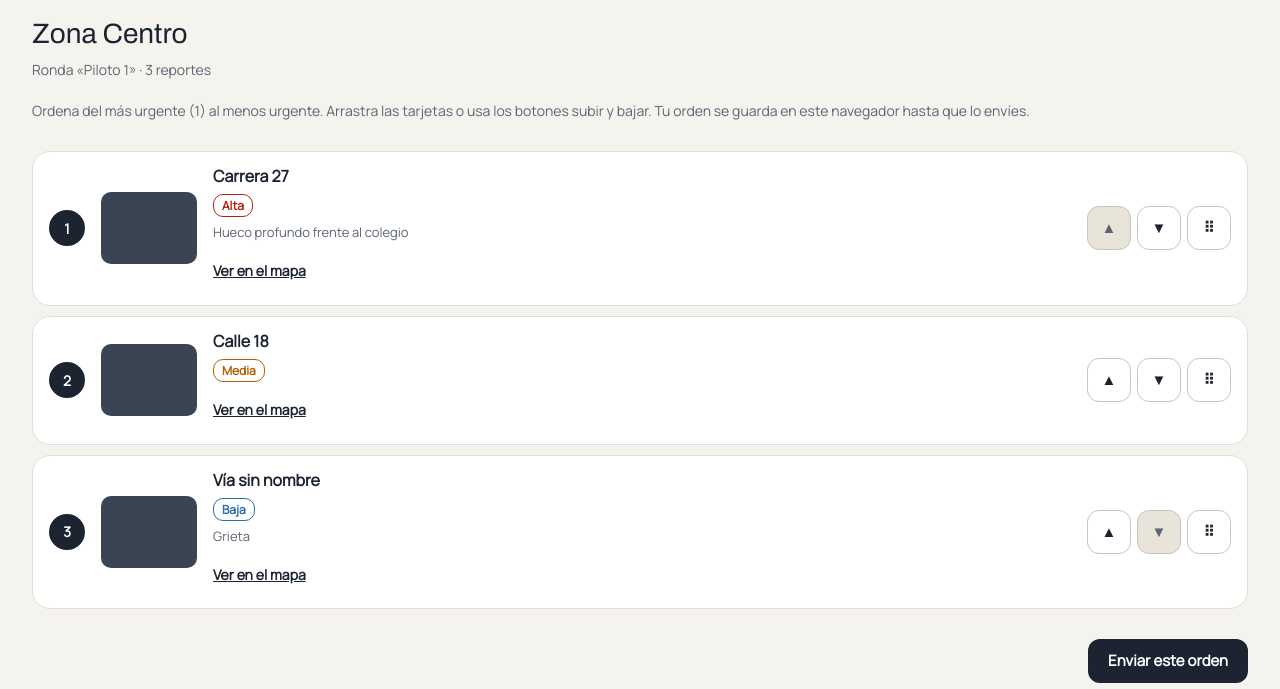
vista a ciegas de una zona › si ya se envió, lo dice
(page scrolled)
Click the button "Enviar este orden" at (1168, 661), box [1088,639,1248,683]
(page scrolled)
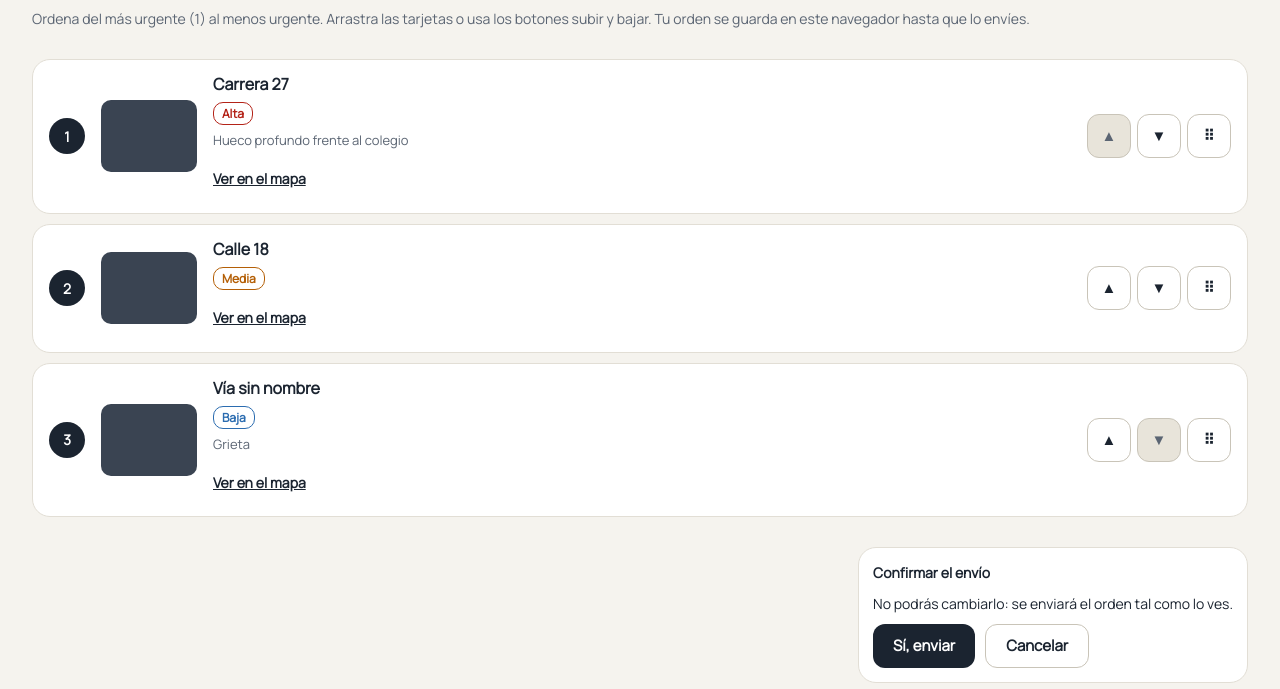
Click the button "Sí, enviar" at (924, 646), box [873,624,975,668]
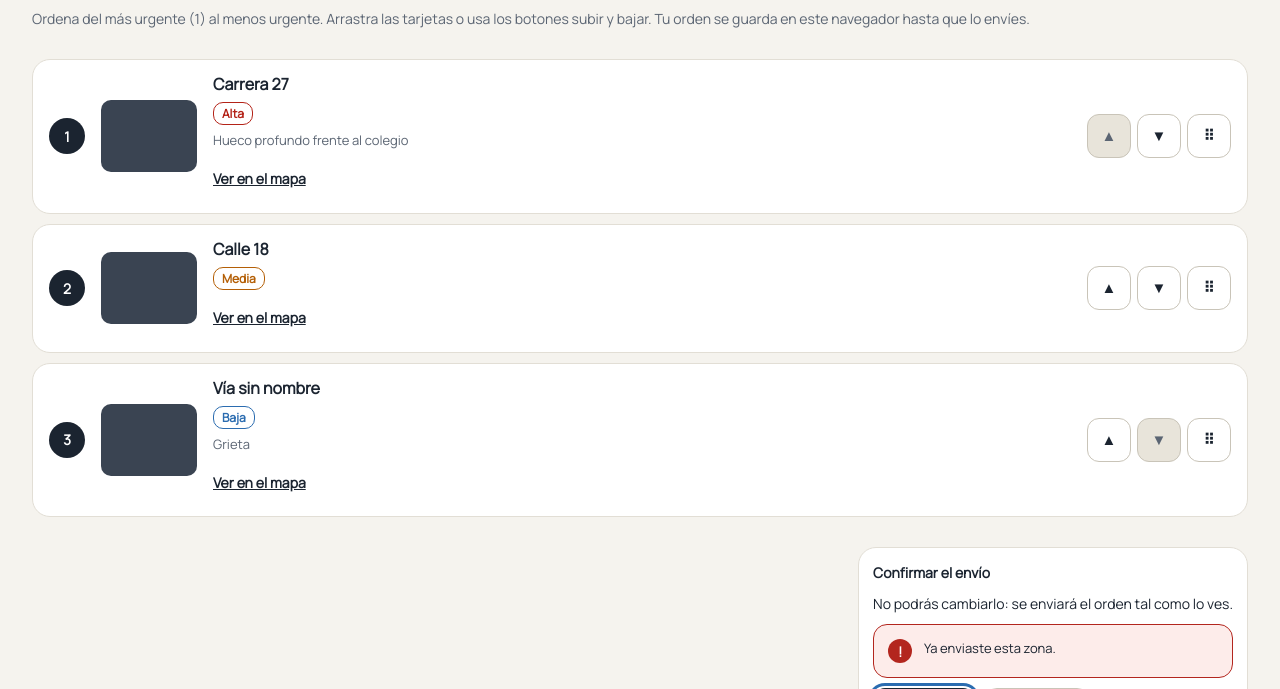
Expected: the message "! Ya enviaste esta zona." is shown, [873,624,1233,678]
